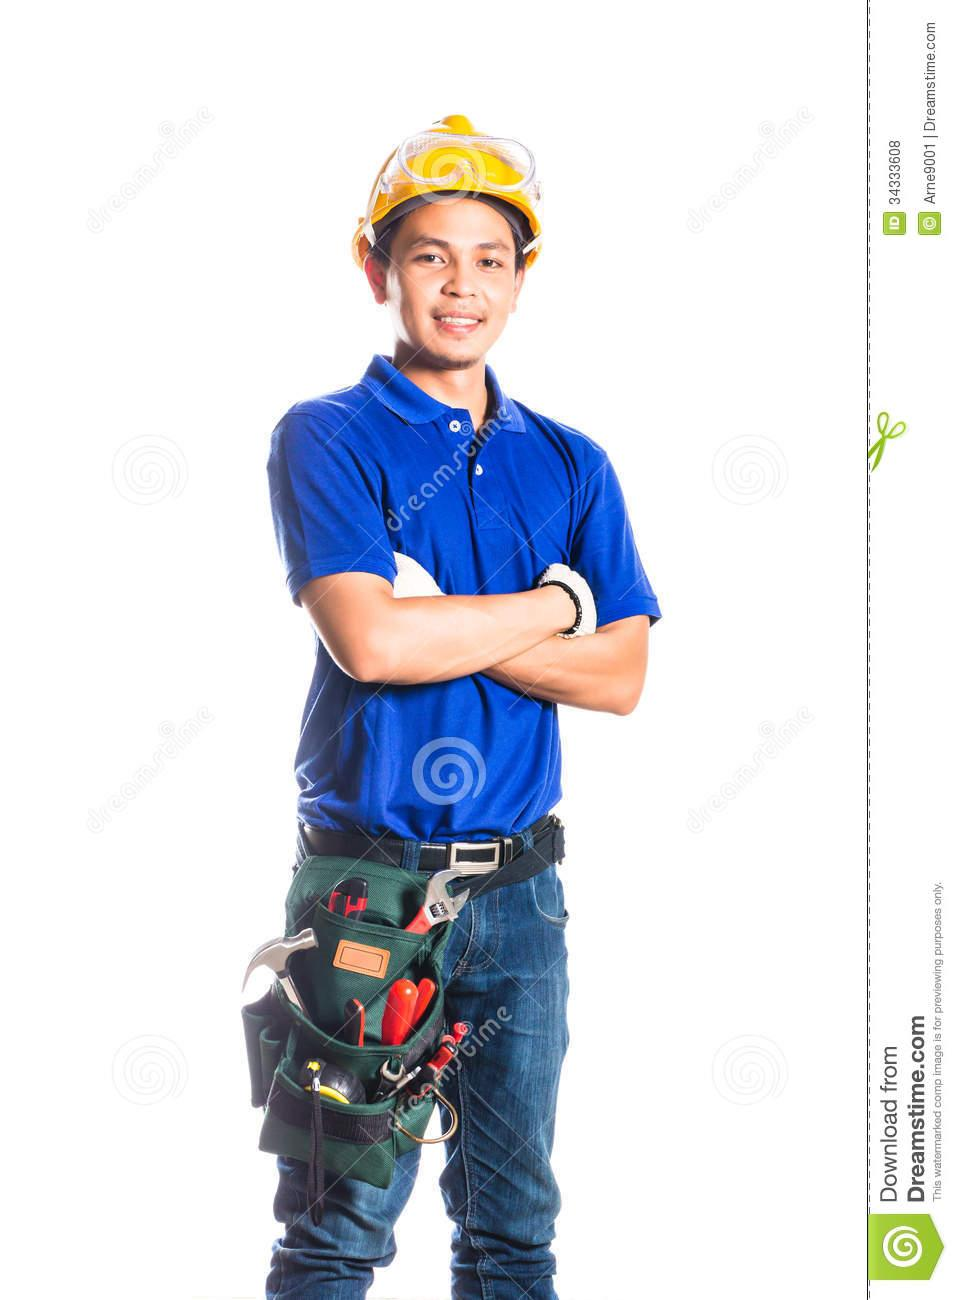helmet: (349, 115, 551, 275)
